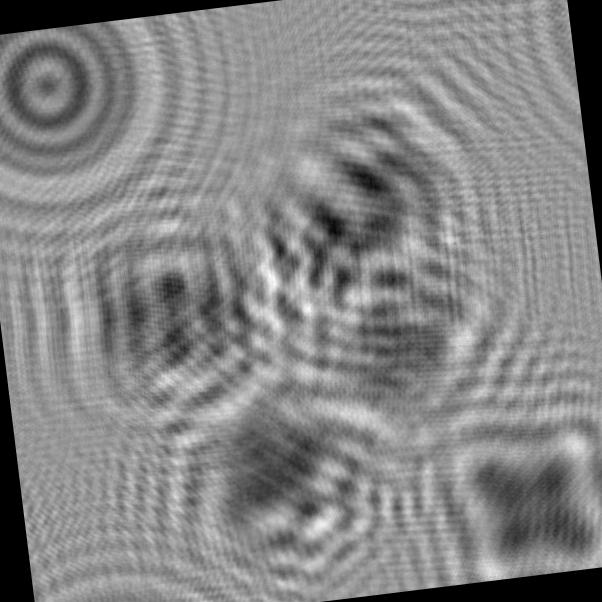H: (21, 170, 315, 470)
K: (132, 343, 432, 602)
M: (211, 59, 515, 353)
O: (0, 11, 210, 241)
T: (258, 218, 552, 480)
X: (375, 355, 602, 592)
